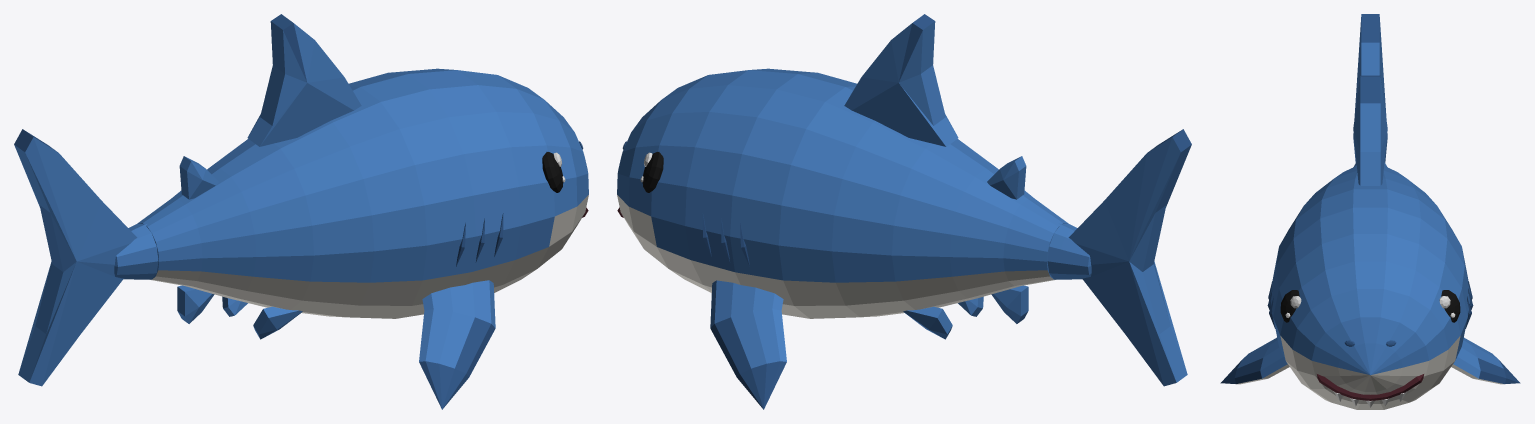
Rendered from shark.glb.
The picture shows the model from 3 angles, left to right: view 1: azimuth 30°, elevation 25°; view 2: azimuth 150°, elevation 25°; view 3: azimuth 270°, elevation 25°; orthographic projection. The views are drawn at different scales.
Visible parts, largest first — view 1: body, tail, fin_r; view 2: body, tail, fin_l; view 3: body, tail, fin_l, fin_r.
Boxes of the visible parts, x1,y1,x2,y2 form: body: (138, 14, 588, 339); tail: (14, 129, 158, 386); fin_r: (419, 280, 495, 409); body: (617, 14, 1067, 339); tail: (1047, 129, 1191, 386); fin_l: (710, 280, 786, 409); body: (1267, 75, 1473, 409); tail: (1353, 14, 1387, 166); fin_l: (1451, 337, 1520, 384); fin_r: (1220, 337, 1289, 384).
Size of the model in its own units: 2.66 by 1.53 by 1.48.
